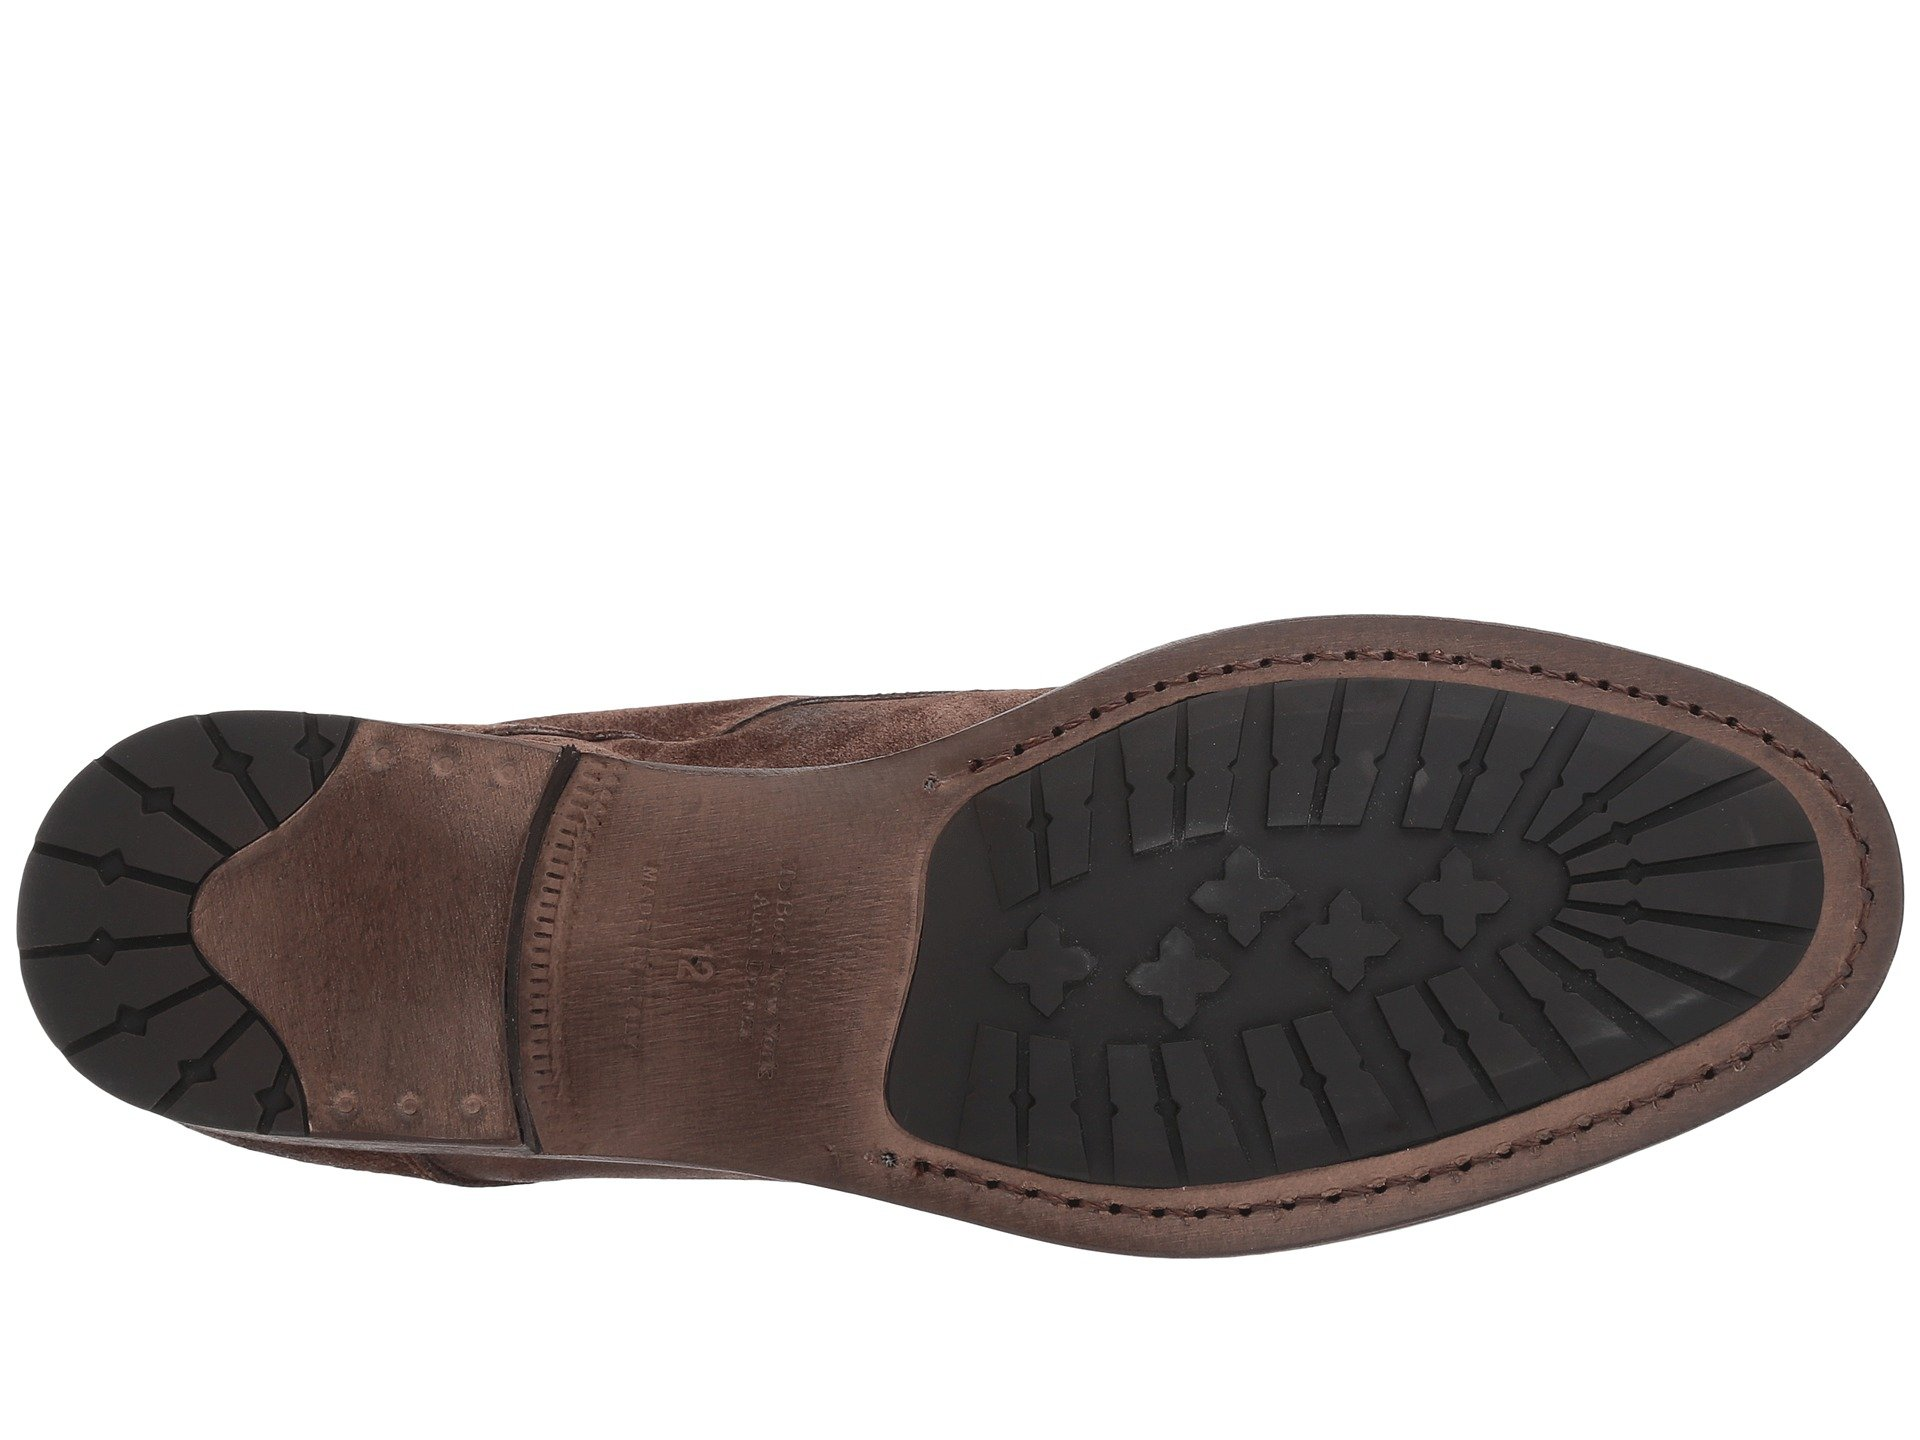bowtie: (15, 725, 390, 1139), (1386, 666, 1754, 1016), (11, 728, 225, 950), (63, 973, 304, 1163), (1225, 1004, 1414, 1184), (1252, 669, 1414, 846)
circle: (15, 725, 390, 1139)
star: (15, 725, 390, 1139), (1386, 666, 1754, 1016), (1117, 824, 1332, 1057), (986, 895, 1107, 1027), (1400, 844, 1524, 962)
